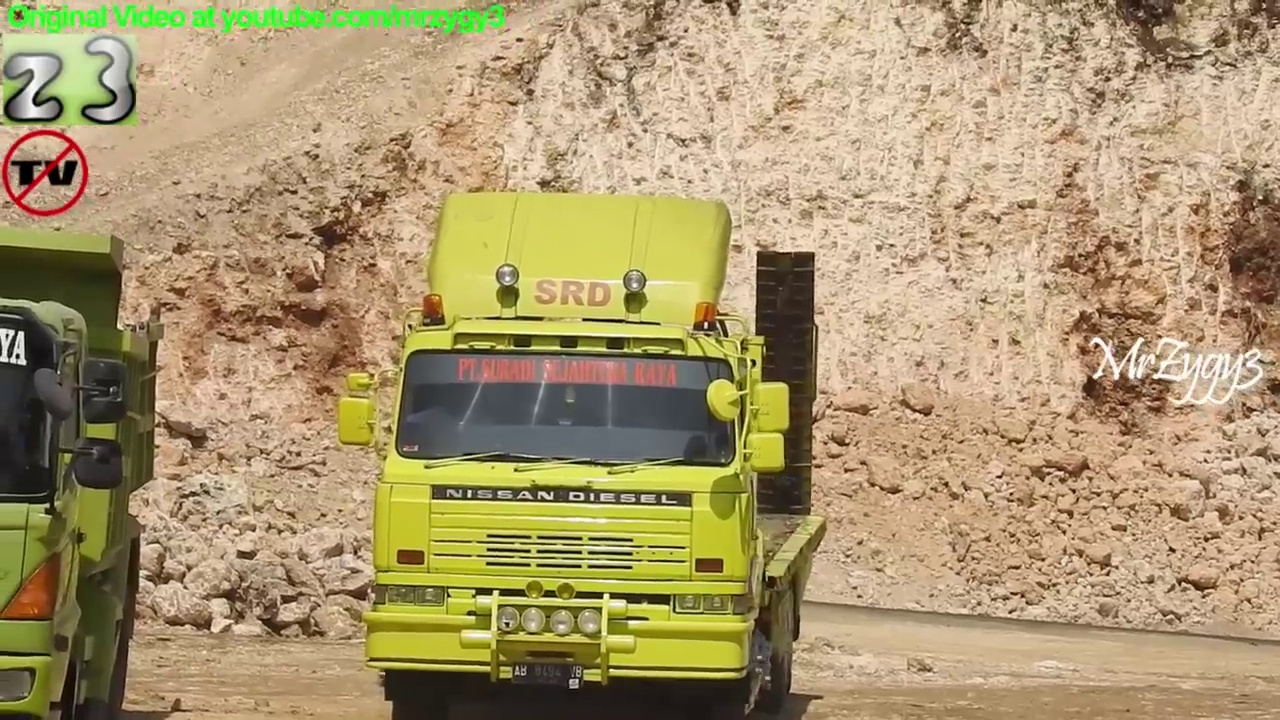truck: (331, 181, 838, 720), (1, 216, 168, 720)
